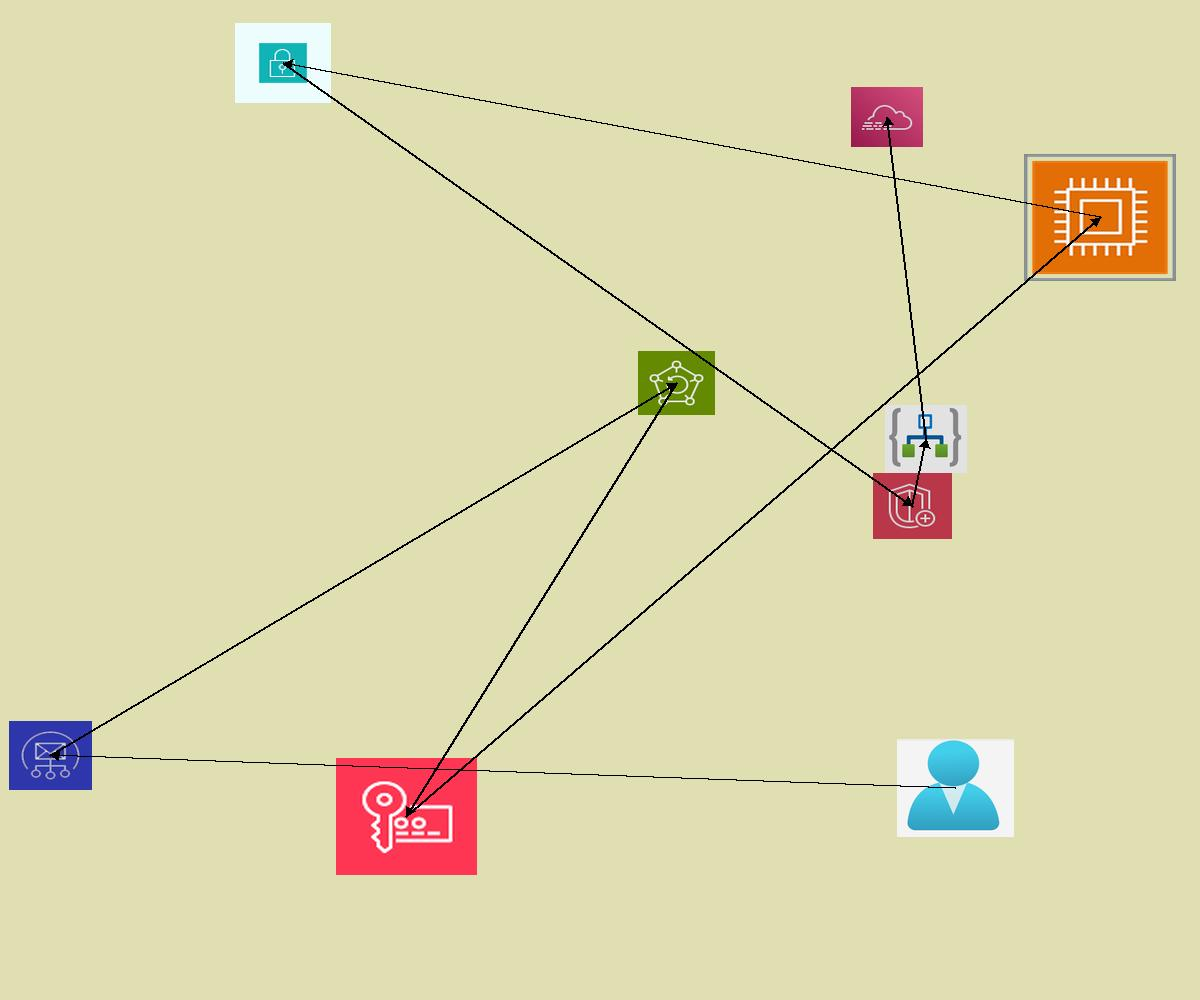AWS-Backup: (638, 351, 715, 415)
AWS-Category_Compute: (1024, 154, 1176, 281)
AWS-CloudTrail: (851, 87, 923, 147)
AWS-Key-Management-Service: (336, 758, 477, 875)
AWS-Private-subnet: (235, 23, 331, 103)
AWS-Shield: (873, 473, 952, 539)
AWS-Simple-Email-Service: (9, 721, 92, 790)
Azure_integration-204-Logic-Apps: (885, 405, 967, 473)
Azure_users: (897, 739, 1014, 837)
